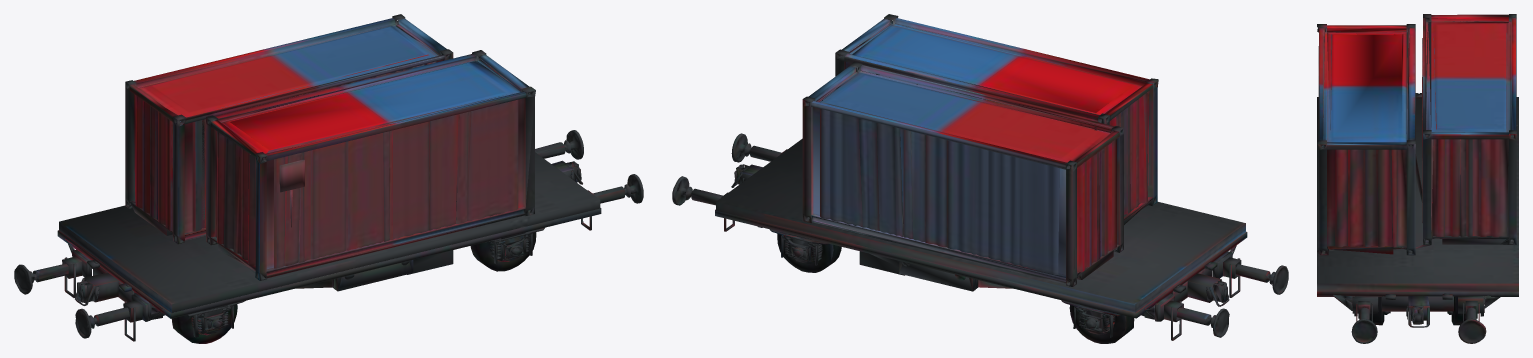
File: train_wagon.glb
3 renders of one model, left to right at view 1: azimuth 30°, elevation 25°; view 2: azimuth 150°, elevation 25°; view 3: azimuth 270°, elevation 25°, orthographic. The views are drawn at different scales.
Bounding box in the file's own units: 0.9507 × 0.3281 × 0.3354.
1 material, 1 textured.
